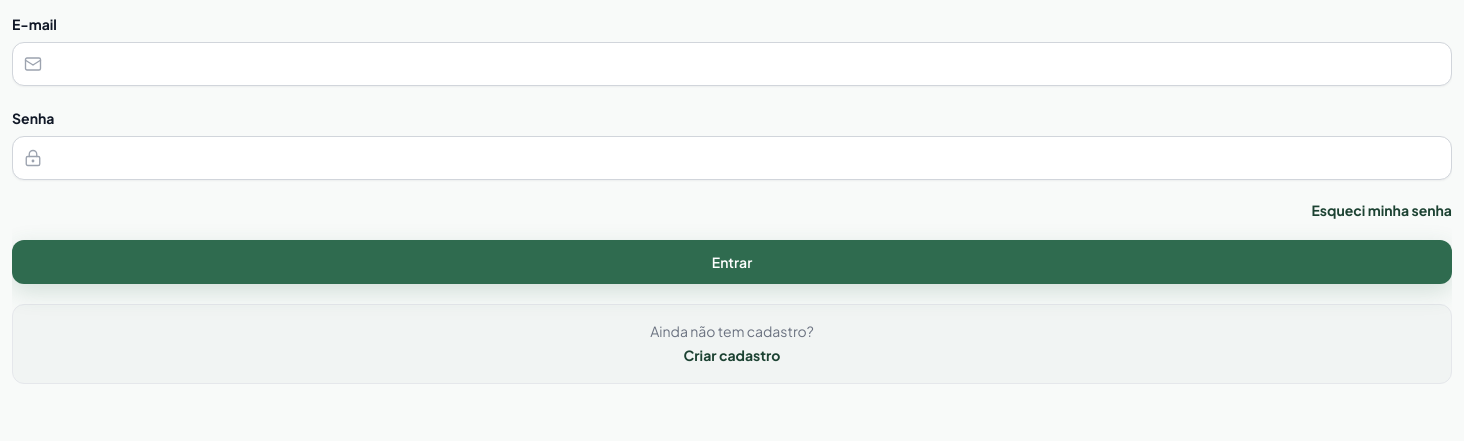
Test: LoginForm › shows a generic authentication error without clearing the e-mail field
Type "master@flora.local" into the field labelled "E-mail".
click(732, 64); type("master@flora.local")  # box [12,42,1452,86]
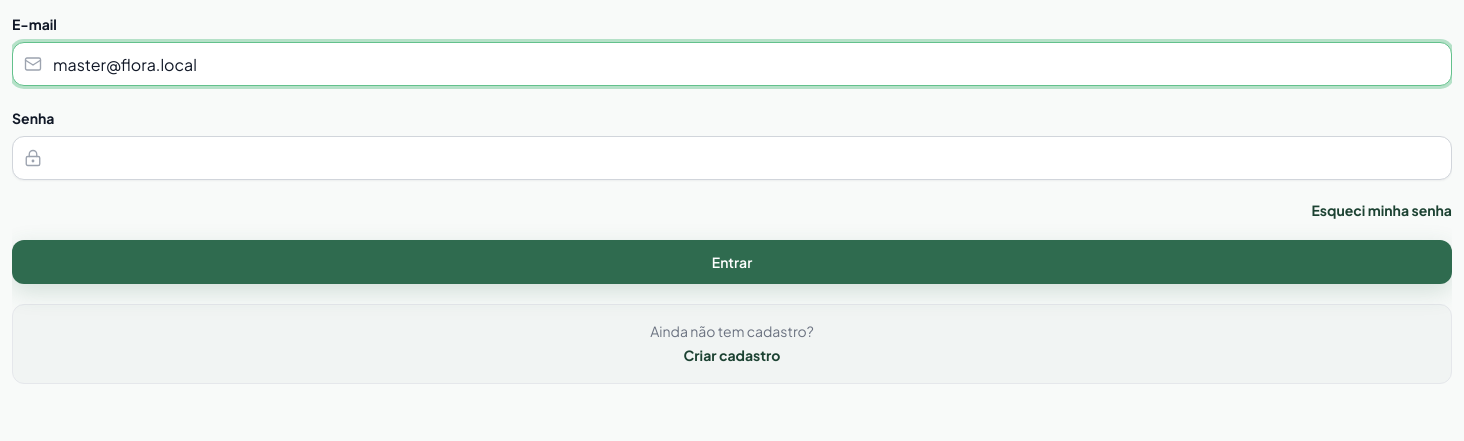
Type "senha-errada" into the password field labelled "Senha".
click(732, 158); type("senha-errada")  # box [12,136,1452,180]
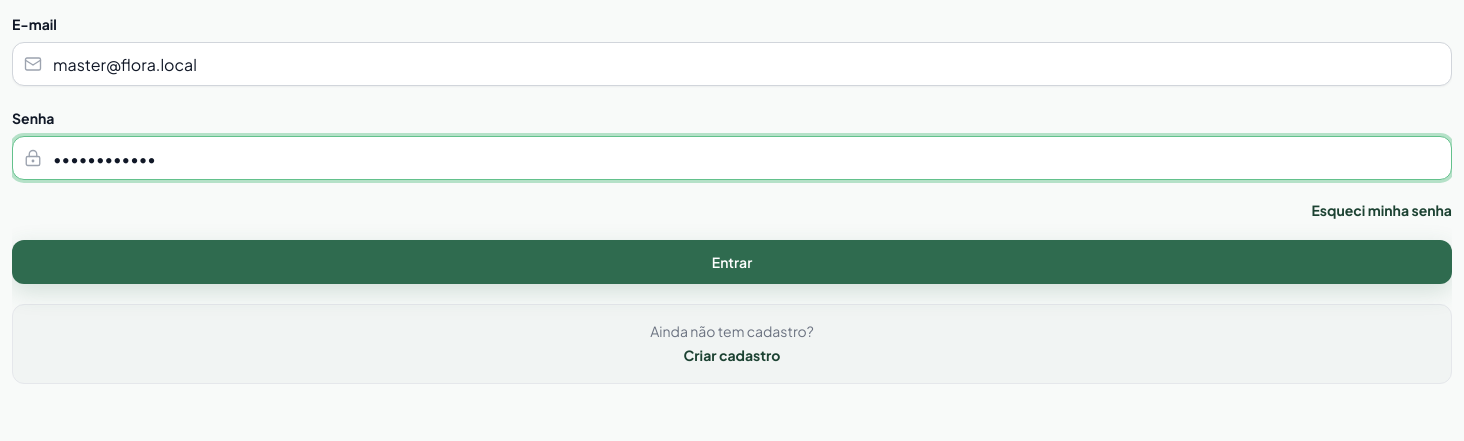
Click the button "Entrar".
click(732, 262)  # box [12,240,1452,284]
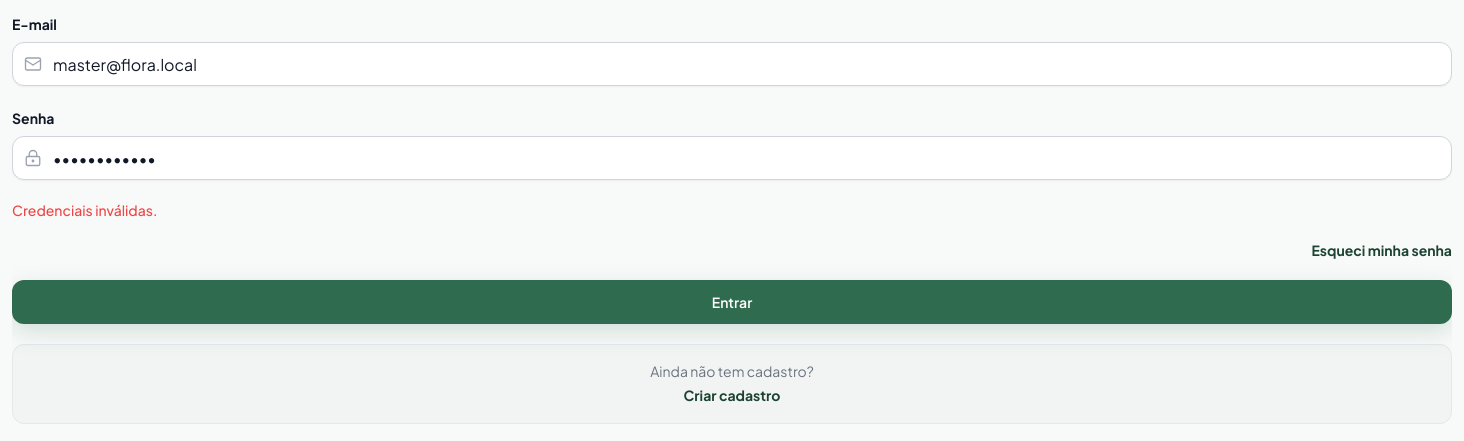
Now the text "Credenciais inválidas." is shown, box [12,201,157,219]
